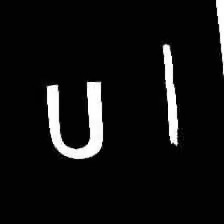LTR_U: (38, 74, 114, 164)
